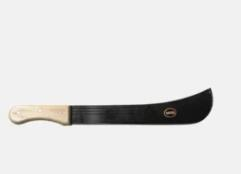MACHETTE: (0, 86, 218, 130)
